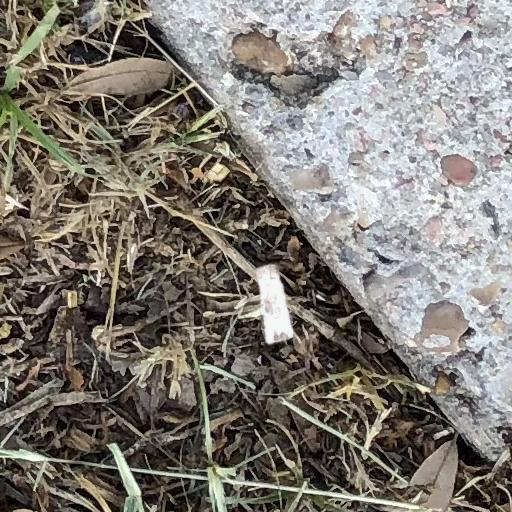smoke: (256, 264, 293, 344)
